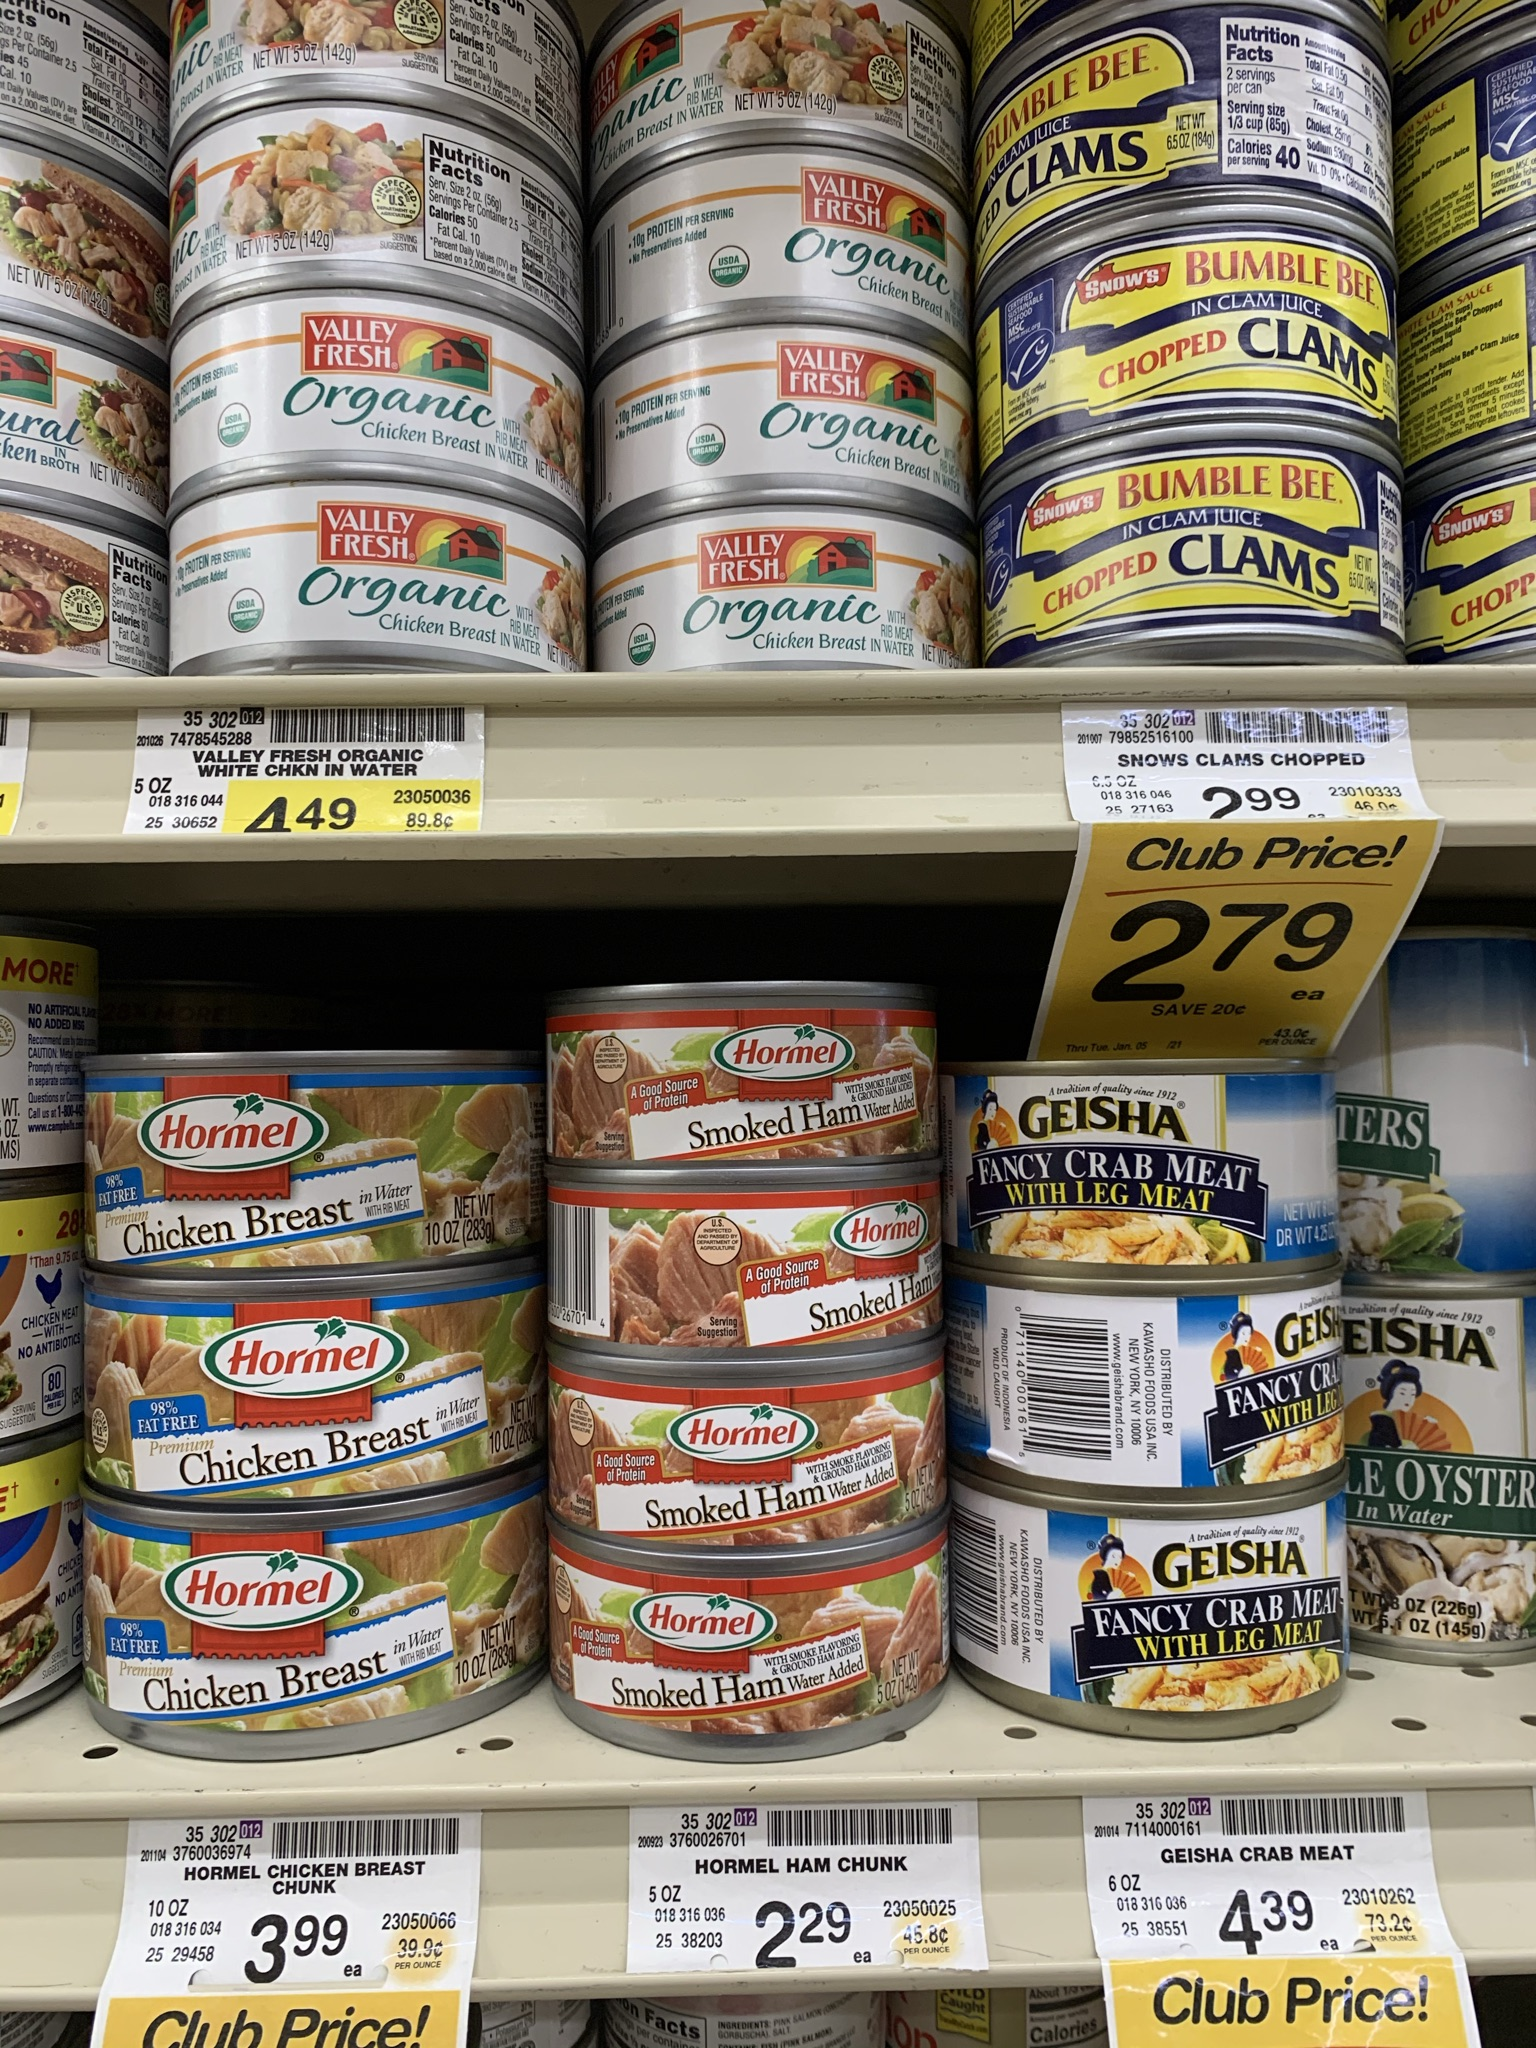can: (77, 1503, 541, 1766), (77, 1048, 537, 1284), (86, 1280, 544, 1505), (973, 431, 1412, 663), (949, 1495, 1355, 1740), (978, 206, 1404, 440), (963, 6, 1399, 231), (536, 1542, 954, 1763), (950, 1277, 1344, 1495), (957, 1058, 1342, 1276), (544, 976, 942, 1185), (161, 297, 586, 493), (169, 485, 589, 669), (542, 1180, 949, 1363), (541, 1371, 950, 1550), (591, 147, 965, 340), (168, 126, 586, 290), (595, 323, 978, 498), (600, 498, 975, 663), (1367, 1308, 1531, 1646), (1386, 966, 1531, 1279)
